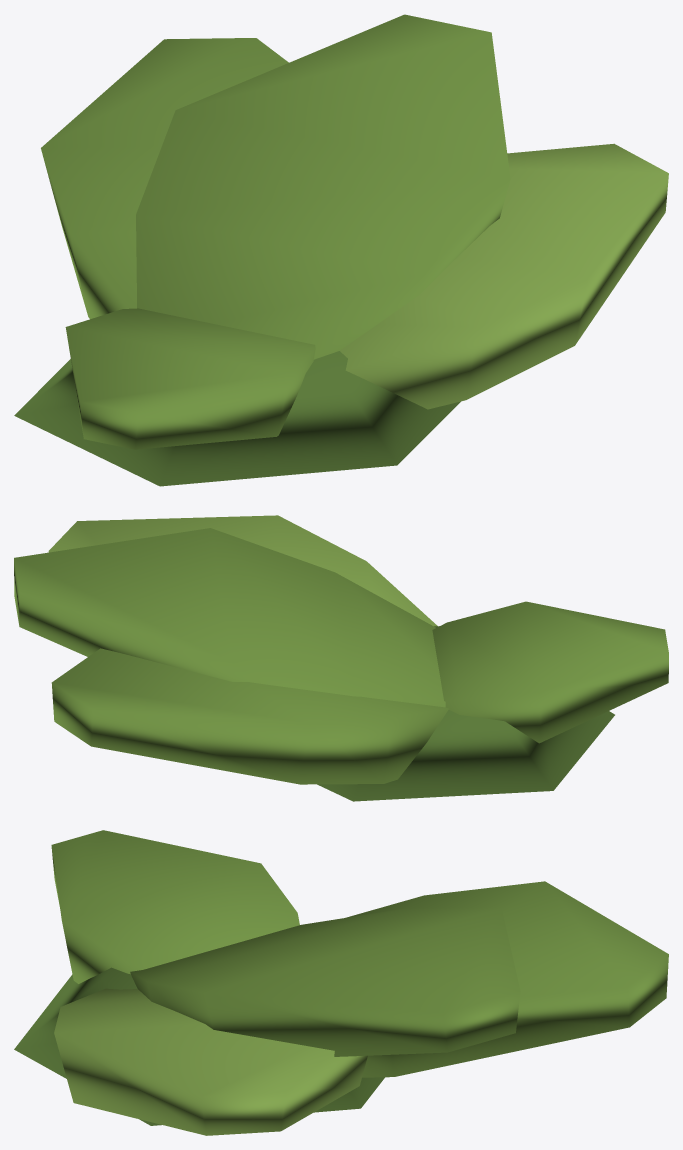
File: carpet_directional.glb
The picture shows the model from 3 angles, top to bottom: view 1: azimuth 30°, elevation 25°; view 2: azimuth 150°, elevation 25°; view 3: azimuth 270°, elevation 25°; orthographic projection. The views are drawn at different scales.
Visible parts, largest first — view 1: carpet_directional; view 2: carpet_directional; view 3: carpet_directional.
Part boxes in pixels (bbox=[...]): carpet_directional: bbox=[14, 14, 668, 486]; carpet_directional: bbox=[14, 515, 668, 801]; carpet_directional: bbox=[14, 830, 668, 1135].
Size of the model in its own units: 0.2468 by 0.0733 by 0.2274.
